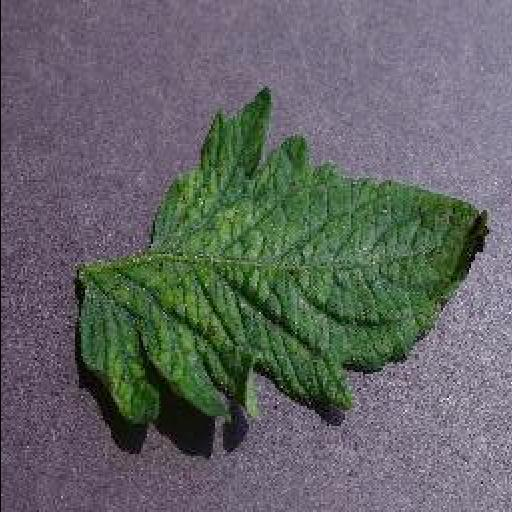disease_tomato: (76, 82, 494, 428)
